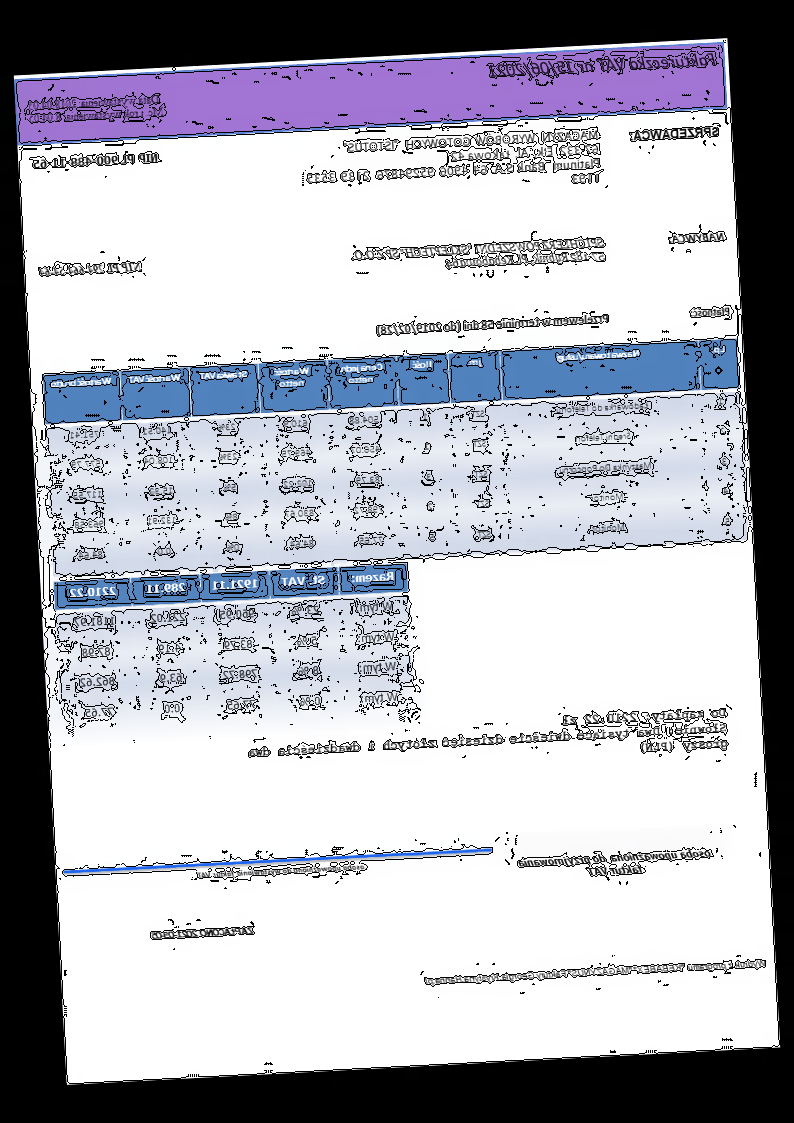Table: (41, 337, 749, 578), (52, 561, 416, 733)
TextBox: (244, 705, 730, 776), (303, 125, 603, 199), (422, 955, 769, 988), (349, 235, 607, 277), (515, 845, 714, 883), (487, 49, 718, 80), (376, 312, 611, 337), (26, 90, 166, 124), (195, 861, 367, 881), (32, 150, 162, 172), (38, 259, 144, 280), (627, 121, 722, 144), (150, 923, 256, 943), (666, 229, 727, 246), (688, 303, 732, 320)
